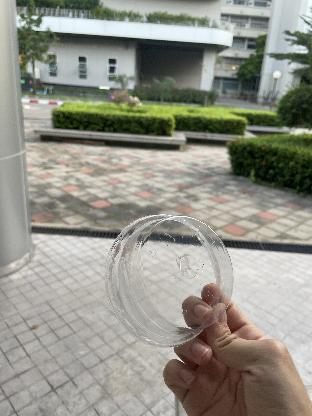Plastic Cup: (101, 207, 245, 350)
